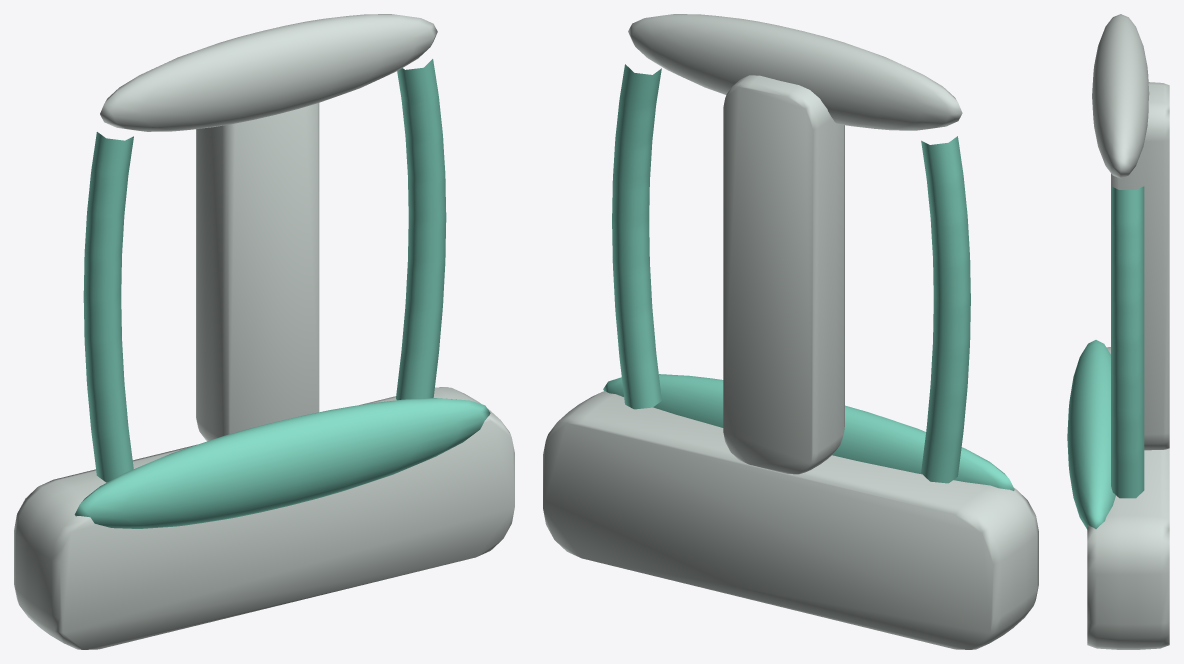
The model's file is decor_6_mint.glb.
3 views of the same model, side by side, from view 1: azimuth 30°, elevation 25°; view 2: azimuth 150°, elevation 25°; view 3: azimuth 270°, elevation 25° (orthographic). The views are drawn at different scales.
Parts seen in each view (by area): view 1: decor_6_mint; view 2: decor_6_mint; view 3: decor_6_mint.
Part boxes in pixels (x1,y1,x2,y2): decor_6_mint: [14, 14, 514, 649]; decor_6_mint: [543, 14, 1038, 649]; decor_6_mint: [1067, 14, 1169, 649].
Bounding box in the file's own units: 7.14 × 8.27 × 1.52.
